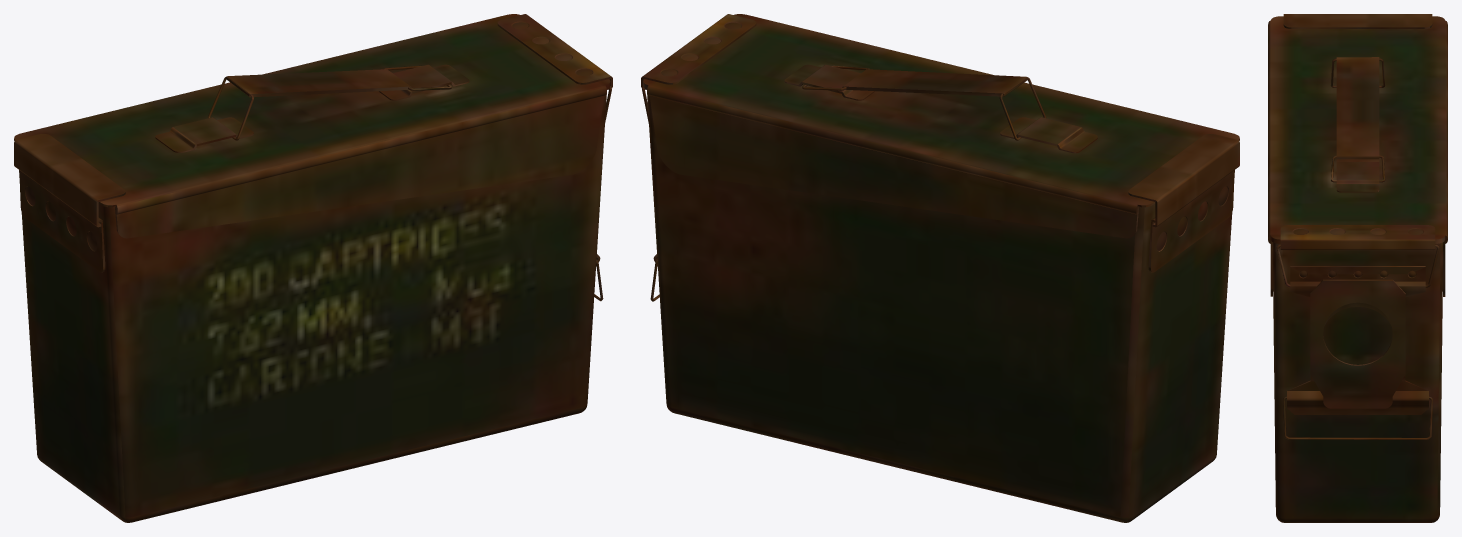
The model's file is ammo_box.glb.
3 renders of one model, left to right at view 1: azimuth 30°, elevation 25°; view 2: azimuth 150°, elevation 25°; view 3: azimuth 270°, elevation 25°, orthographic. The views are drawn at different scales.
Visible parts, largest first — view 1: ammo_box; view 2: ammo_box; view 3: ammo_box.
Boxes of the visible parts, bbox=[...] form: ammo_box: bbox=[14, 14, 612, 522]; ammo_box: bbox=[641, 14, 1239, 522]; ammo_box: bbox=[1268, 14, 1447, 522].
Size of the model in its own units: 0.28 by 0.1927 by 0.094.
1 material, 1 textured.
